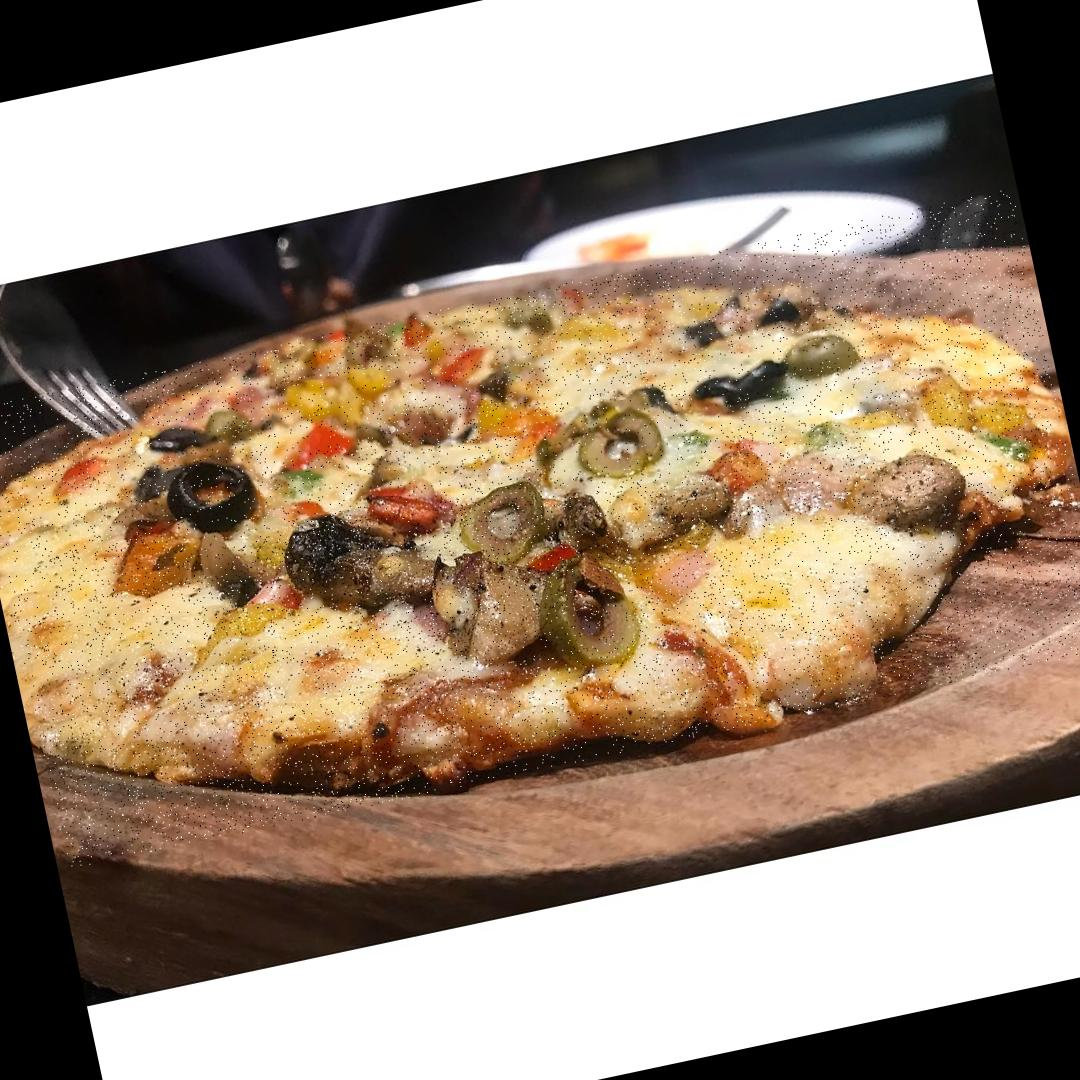Corn: (268, 364, 406, 437)
Olives: (524, 564, 652, 683), (556, 393, 674, 493), (275, 502, 388, 602), (144, 446, 264, 533), (452, 480, 550, 562), (685, 348, 783, 417), (778, 324, 857, 374), (149, 416, 217, 459), (754, 294, 802, 330)
Pizza: (0, 188, 1080, 870)
Tomatoes: (361, 462, 442, 542), (266, 415, 370, 468), (414, 339, 502, 389)
